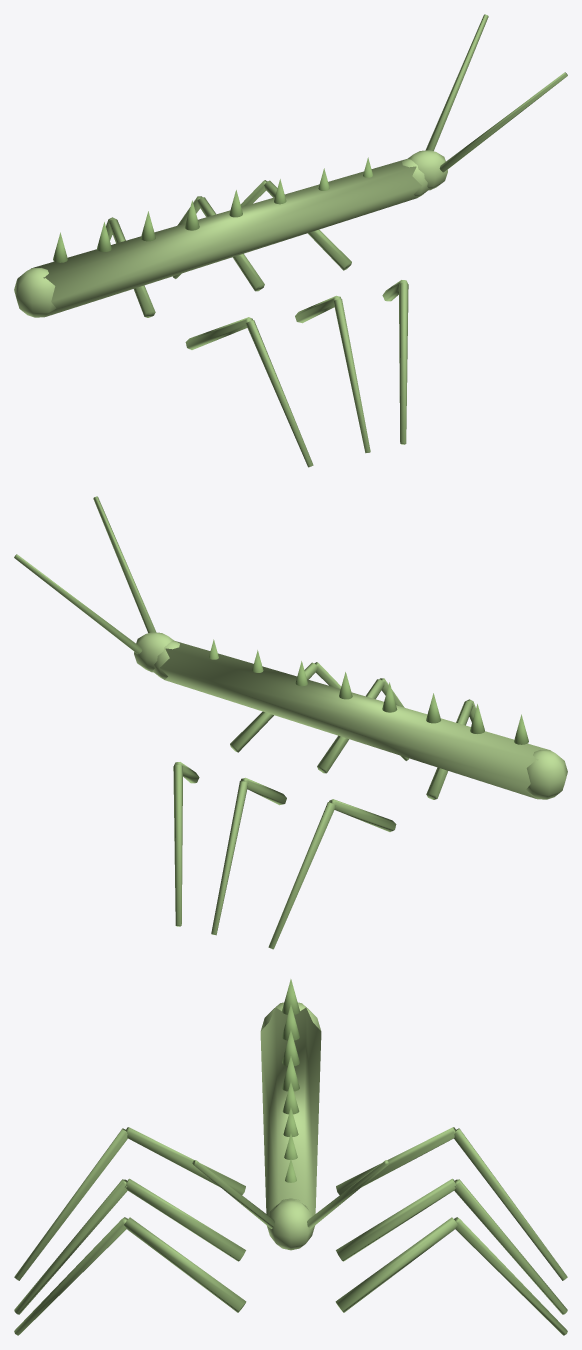
Rendered from malaysian-jungle-nymph.glb.
3 views of the same model, one above another, from view 1: azimuth 30°, elevation 25°; view 2: azimuth 150°, elevation 25°; view 3: azimuth 270°, elevation 25° (orthographic). The views are drawn at different scales.
Visible parts, largest first — view 1: cone; view 2: cone; view 3: cone.
Part boxes in pixels (x1=…): cone: x1=14, y1=14, x2=567, y2=467; cone: x1=14, y1=496, x2=567, y2=949; cone: x1=14, y1=979, x2=567, y2=1335.
Size of the model in its own units: 0.5818 by 0.2836 by 0.455.
